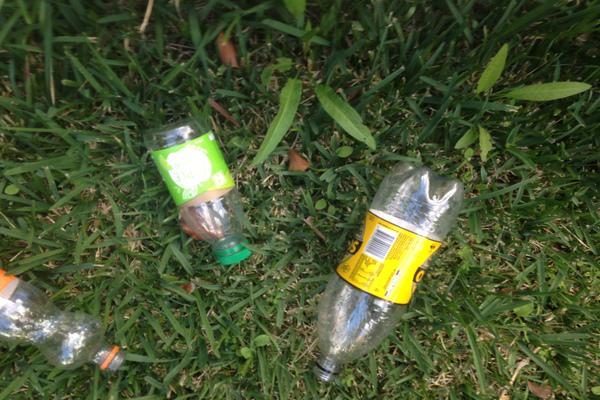Plastic Bottle: (316, 161, 463, 382), (147, 117, 254, 265), (0, 268, 124, 372)
